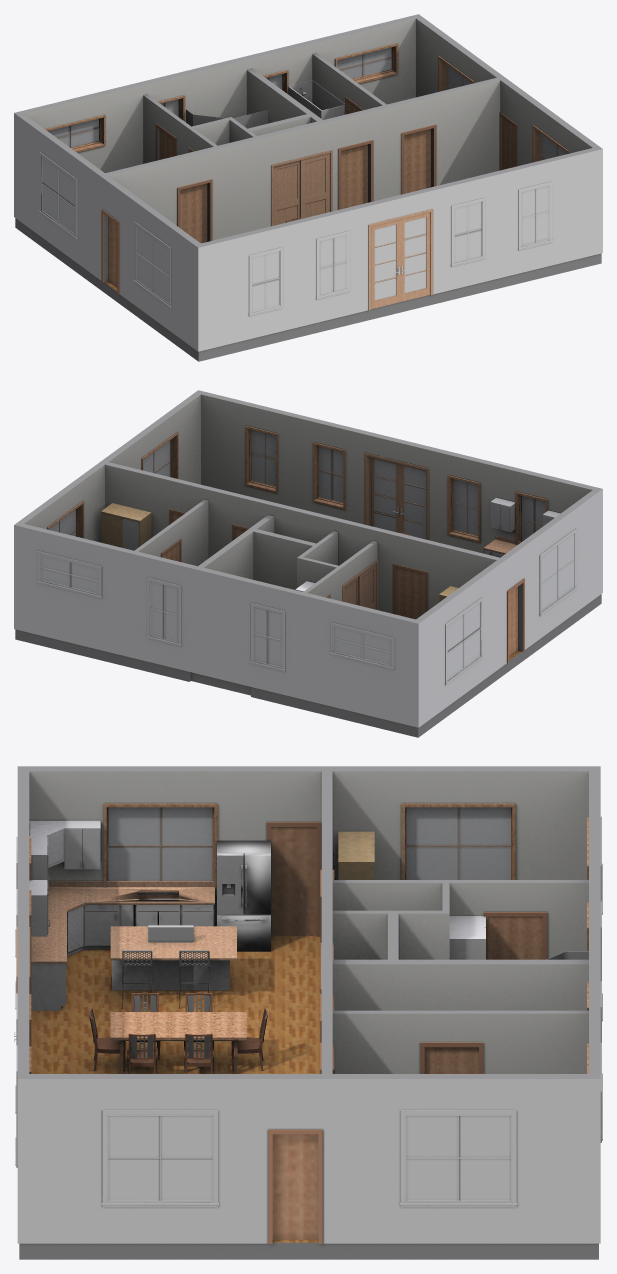
Rendered from Smart Home Floor Plan take 3.fbx.
3 renders of one model, top to bottom at view 1: azimuth 30°, elevation 25°; view 2: azimuth 150°, elevation 25°; view 3: azimuth 270°, elevation 25°, orthographic. The views are drawn at different scales.
Visible parts, largest first — view 1: Object004, Object003, Object002, Object001; view 2: Object004, Object003, Object002, Object001; view 3: Object004, Object003, Object002, Object001.
Boxes of the visible parts, left/top/right/bottom form: Object004: left=14, top=14, right=602, bottom=351; Object003: left=15, top=53, right=601, bottom=361; Object002: left=41, top=46, right=557, bottom=313; Object001: left=39, top=43, right=569, bottom=316; Object004: left=14, top=390, right=602, bottom=727; Object003: left=15, top=436, right=601, bottom=737; Object002: left=40, top=429, right=574, bottom=695; Object001: left=37, top=425, right=577, bottom=685; Object004: left=17, top=766, right=600, bottom=1243; Object003: left=14, top=807, right=598, bottom=1259; Object002: left=29, top=807, right=588, bottom=1243; Object001: left=15, top=803, right=602, bottom=1207.
Bounding box in the file's own units: 492 × 132 × 389.
Materials: 4 (4 with a texture image).
